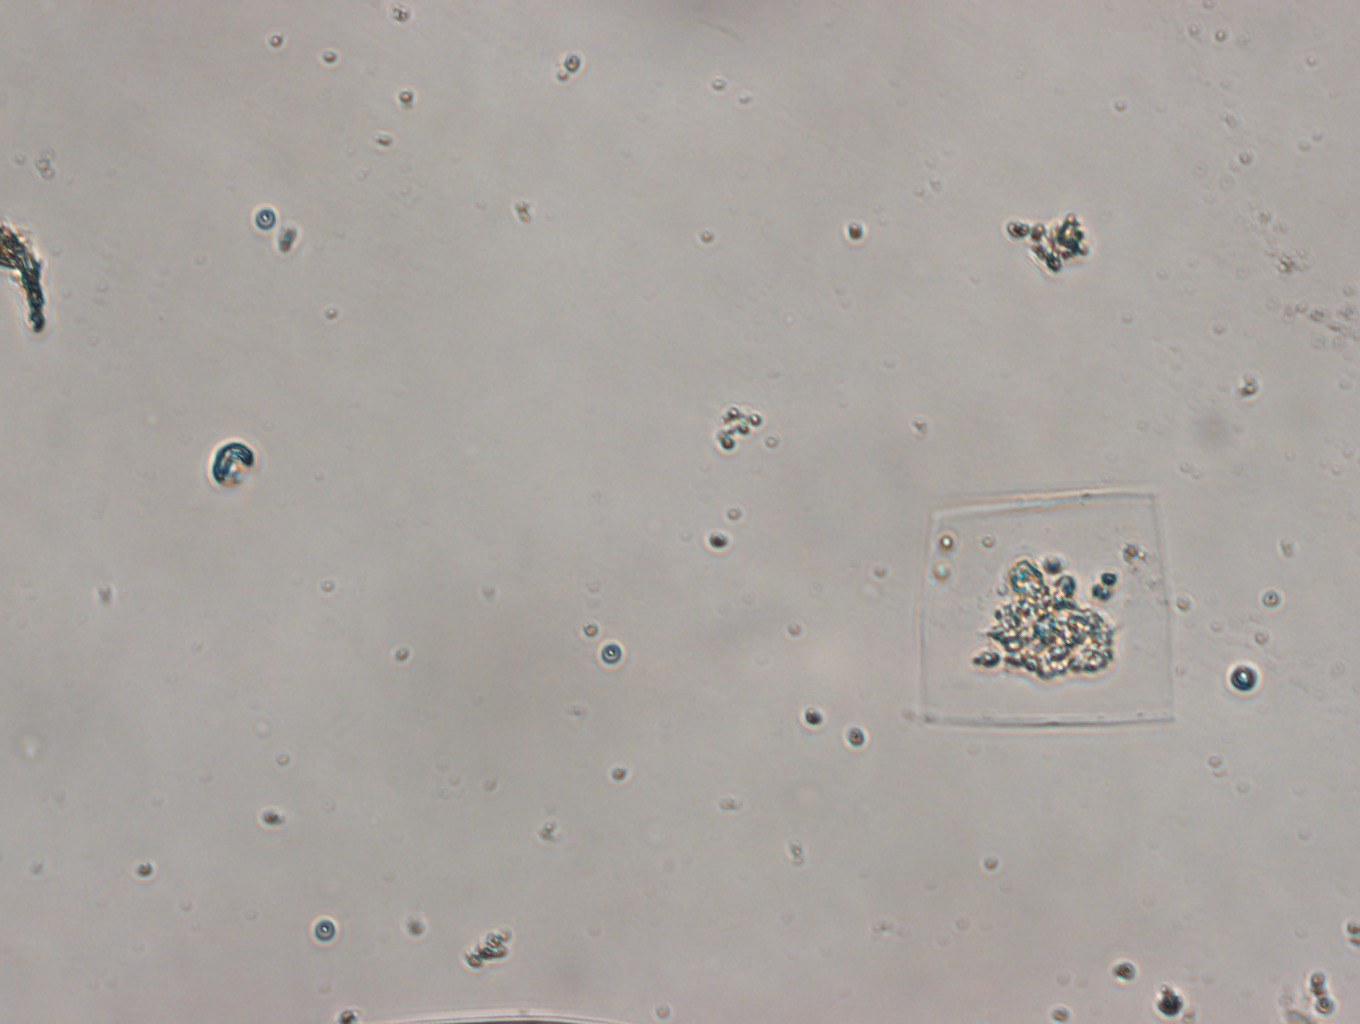helicotheca: (916, 485, 1177, 731)
